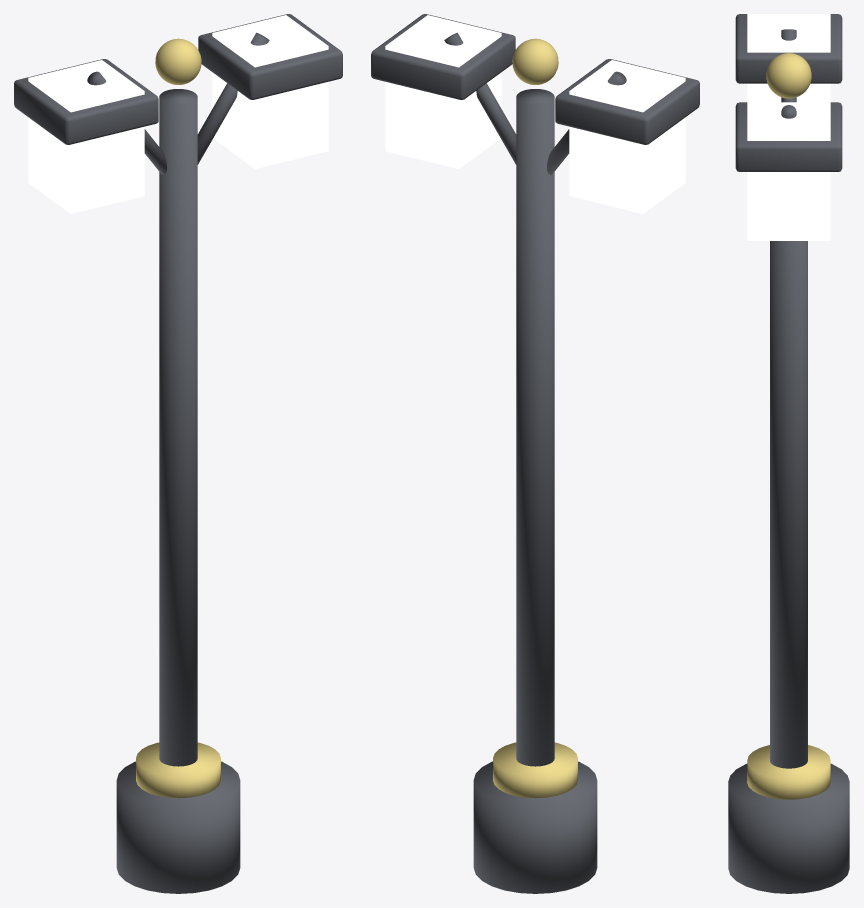
The model's file is street_lamppost.glb.
3 views of the same model, side by side, from view 1: azimuth 30°, elevation 25°; view 2: azimuth 150°, elevation 25°; view 3: azimuth 270°, elevation 25° (orthographic).
Parts seen in each view (by area): view 1: Pole, Base, LanternGlow_-0.55, LanternGlow_0.55, LanternTop_-0.55, LanternTop_0.55, BaseTrim, Finial, Arm_0.55, Arm_-0.55; view 2: Pole, Base, LanternGlow_-0.55, LanternGlow_0.55, LanternTop_-0.55, LanternTop_0.55, BaseTrim, Finial, Arm_0.55, Arm_-0.55; view 3: Pole, Base, LanternGlow_0.55, LanternTop_0.55, LanternGlow_-0.55, BaseTrim, LanternTop_-0.55, Finial.
Boxes of the visible parts, x1,y1,x2,y2 form: Pole: [159, 89, 197, 766]; Base: [116, 761, 240, 893]; LanternGlow_-0.55: [28, 60, 144, 213]; LanternGlow_0.55: [212, 15, 328, 168]; LanternTop_-0.55: [14, 59, 158, 144]; LanternTop_0.55: [198, 14, 342, 99]; BaseTrim: [136, 742, 220, 798]; Finial: [155, 38, 201, 84]; Arm_0.55: [197, 32, 269, 164]; Arm_-0.55: [87, 71, 166, 174]; Pole: [516, 89, 554, 766]; Base: [473, 761, 597, 893]; LanternGlow_-0.55: [569, 60, 685, 213]; LanternGlow_0.55: [385, 15, 501, 168]; LanternTop_-0.55: [555, 59, 699, 144]; LanternTop_0.55: [371, 14, 515, 99]; BaseTrim: [493, 742, 577, 798]; Finial: [512, 38, 558, 84]; Arm_0.55: [444, 32, 516, 164]; Arm_-0.55: [547, 71, 626, 174]; Pole: [770, 241, 807, 768]; Base: [728, 763, 849, 893]; LanternGlow_0.55: [747, 102, 830, 240]; LanternTop_0.55: [735, 102, 842, 171]; LanternGlow_-0.55: [747, 14, 830, 102]; BaseTrim: [747, 745, 830, 799]; LanternTop_-0.55: [735, 14, 842, 83]; Finial: [766, 53, 811, 98].
Bounding box in the file's own units: 1.66 × 4.72 × 0.64.
